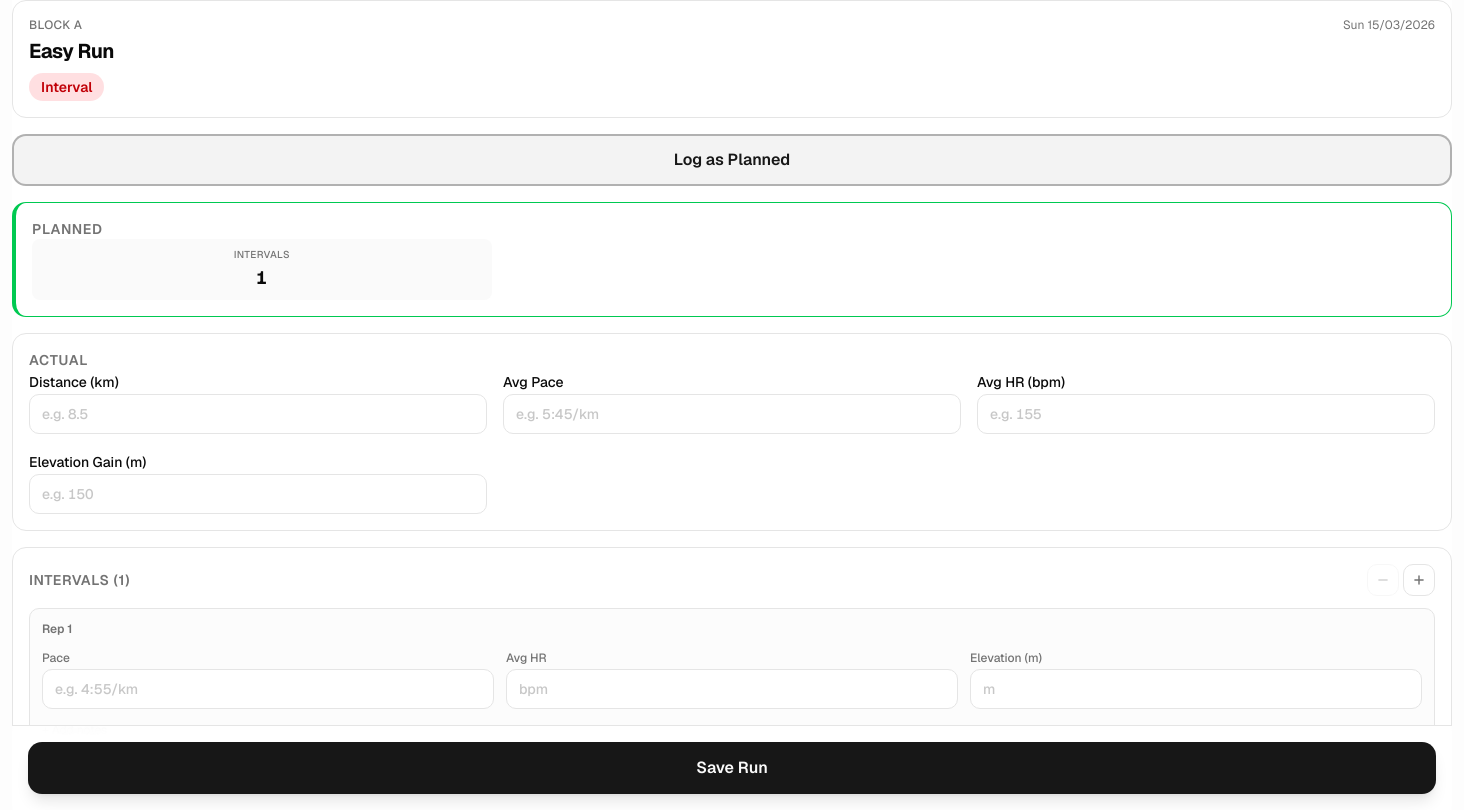
RunningLoggingForm — T180 elevation gain › added interval rep includes elevation gain field
Click the button named "Add interval" at [1419, 580], box [1403,564,1435,596]
(page scrolled)
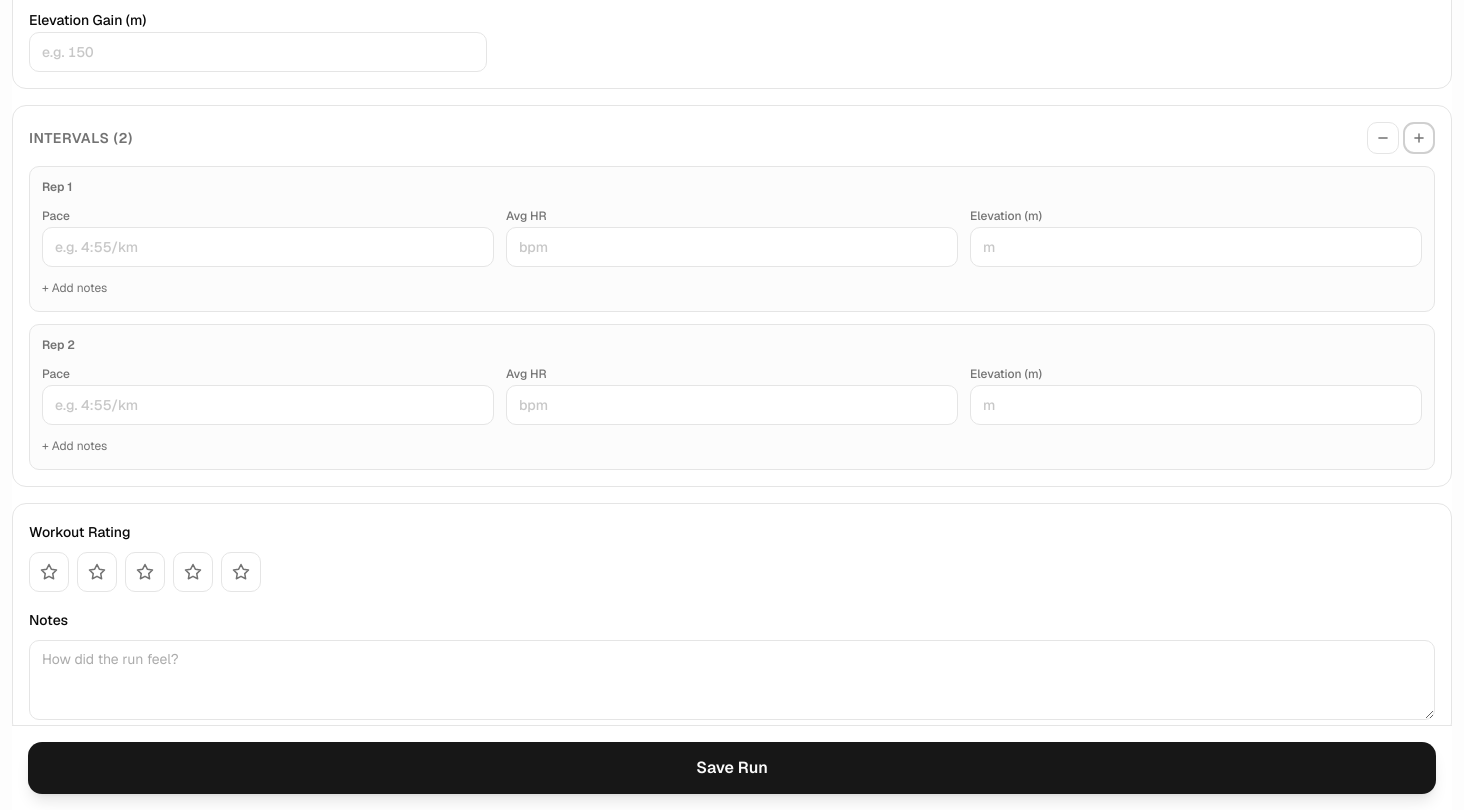
Now the field with test id "interval-elevation-2" is shown
Type "30" into the field with test id "interval-elevation-2" at [1196, 405], box [970,385,1422,425]
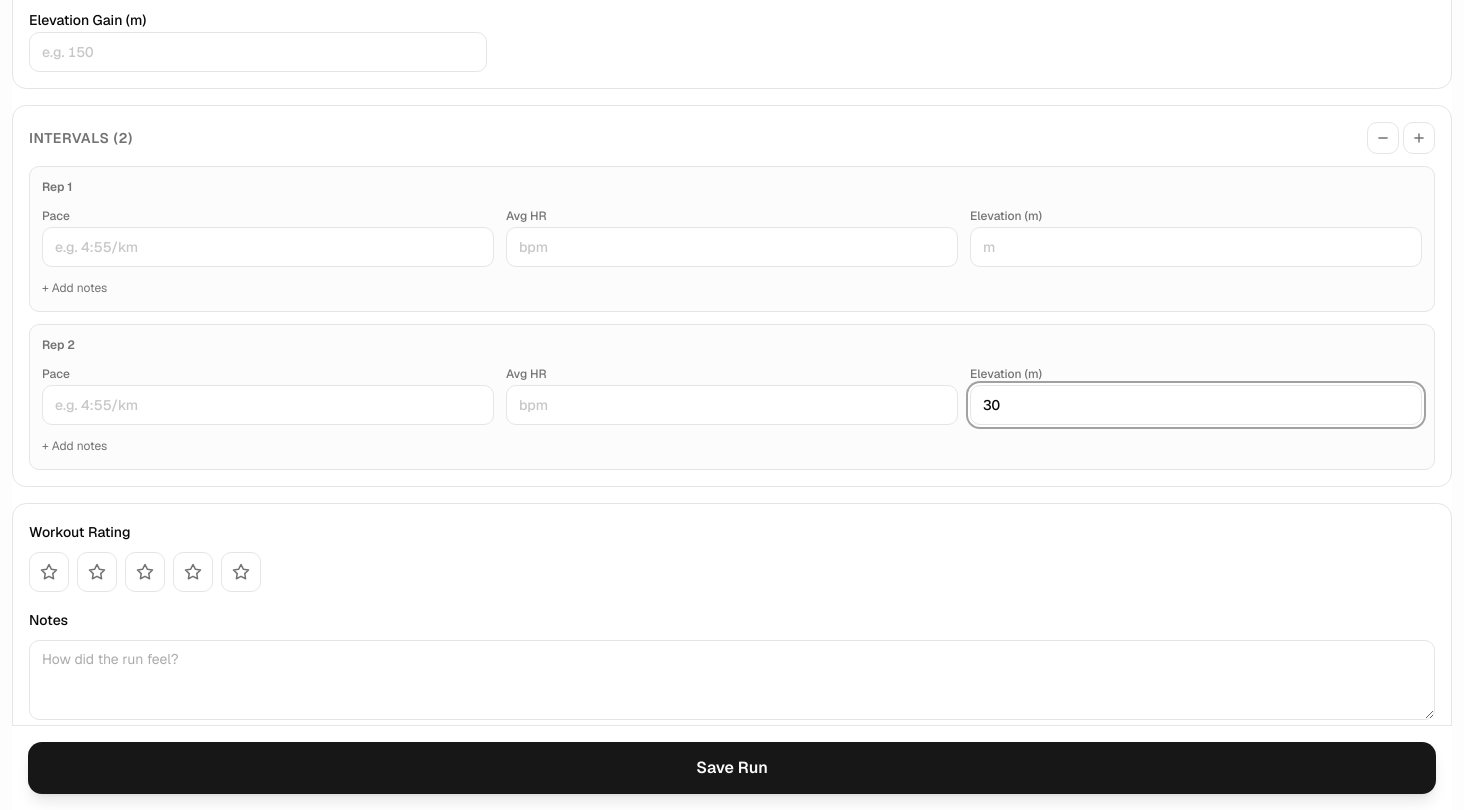
Click the button with test id "save-running-btn" at [732, 768], box [28,742,1436,794]
(page scrolled)
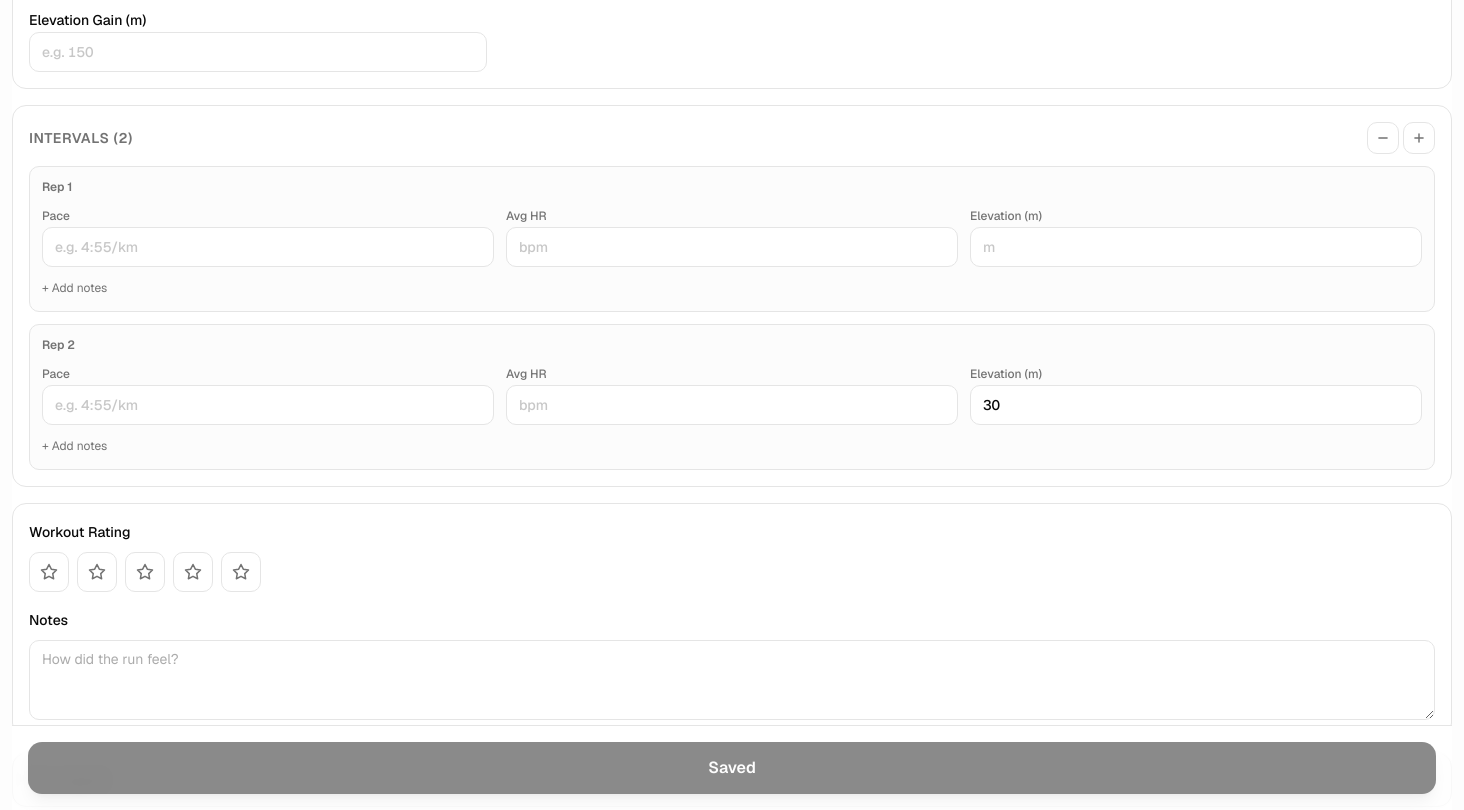
Now the element with test id "save-success" is shown, box [12,753,1452,807]
